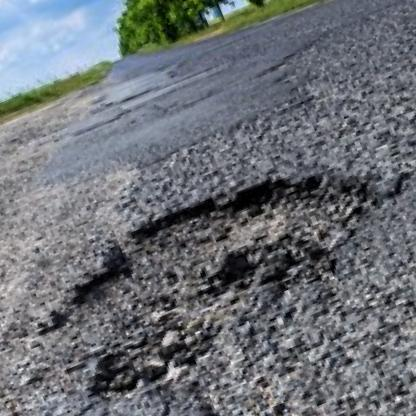pothole: (25, 132, 416, 416)
